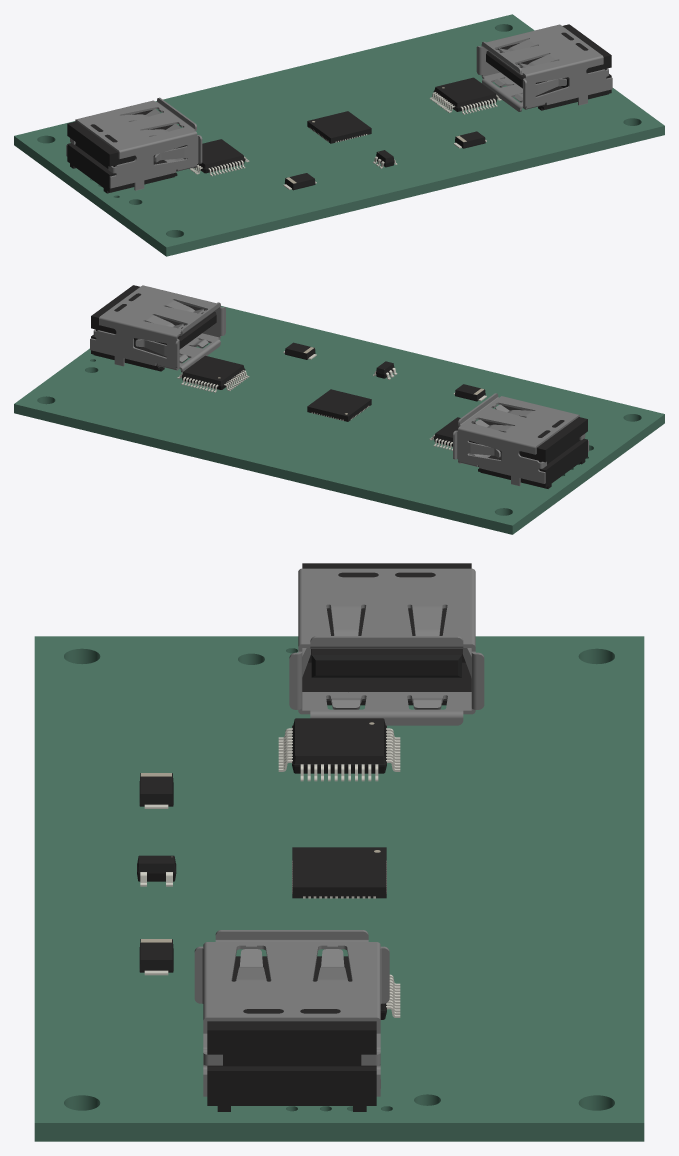
The model's file is pc-usb-bridge.glb.
The picture shows the model from 3 angles, top to bottom: view 1: azimuth 30°, elevation 25°; view 2: azimuth 150°, elevation 25°; view 3: azimuth 270°, elevation 25°; orthographic projection. The views are drawn at different scales.
Parts seen in each view (by area): view 1: =>[0:1:1:12], =>[0:1:1:3] (×2), =>[0:1:1:5] (×2), =>[0:1:1:7], =>[0:1:1:11] (×2); view 2: =>[0:1:1:12], =>[0:1:1:3] (×2), =>[0:1:1:5] (×2), =>[0:1:1:7], =>[0:1:1:11] (×2); view 3: =>[0:1:1:12], =>[0:1:1:3] (×2), =>[0:1:1:5], =>[0:1:1:7], =>[0:1:1:11] (×2), =>[0:1:1:9].
Part boxes in pixels (x1,y1,x2,y2): =>[0:1:1:12]: (14,14,664,256); =>[0:1:1:3] (×2): (66,24,612,193); =>[0:1:1:5] (×2): (189,77,501,176); =>[0:1:1:7]: (307,111,371,143); =>[0:1:1:11] (×2): (283,131,486,190); =>[0:1:1:12]: (14,306,664,534); =>[0:1:1:3] (×2): (90,285,588,488); =>[0:1:1:5] (×2): (177,355,475,450); =>[0:1:1:7]: (307,389,371,421); =>[0:1:1:11] (×2): (283,342,486,401); =>[0:1:1:12]: (34,636,644,1141); =>[0:1:1:3] (×2): (194,563,484,1111); =>[0:1:1:5]: (278,718,400,781); =>[0:1:1:7]: (292,847,386,898); =>[0:1:1:11] (×2): (139,773,173,975); =>[0:1:1:9]: (137,855,176,886).
Bounding box in the file's own units: 0.085 × 0.0115 × 0.045.
